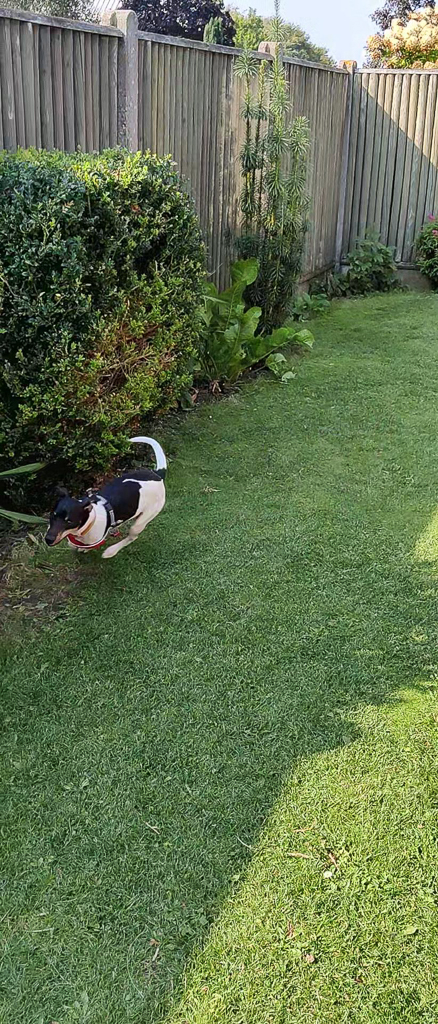Dog: (35, 420, 185, 582)
